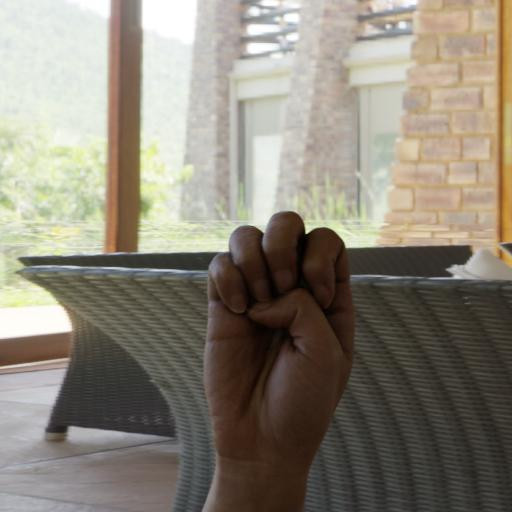E: (176, 194, 392, 468)
